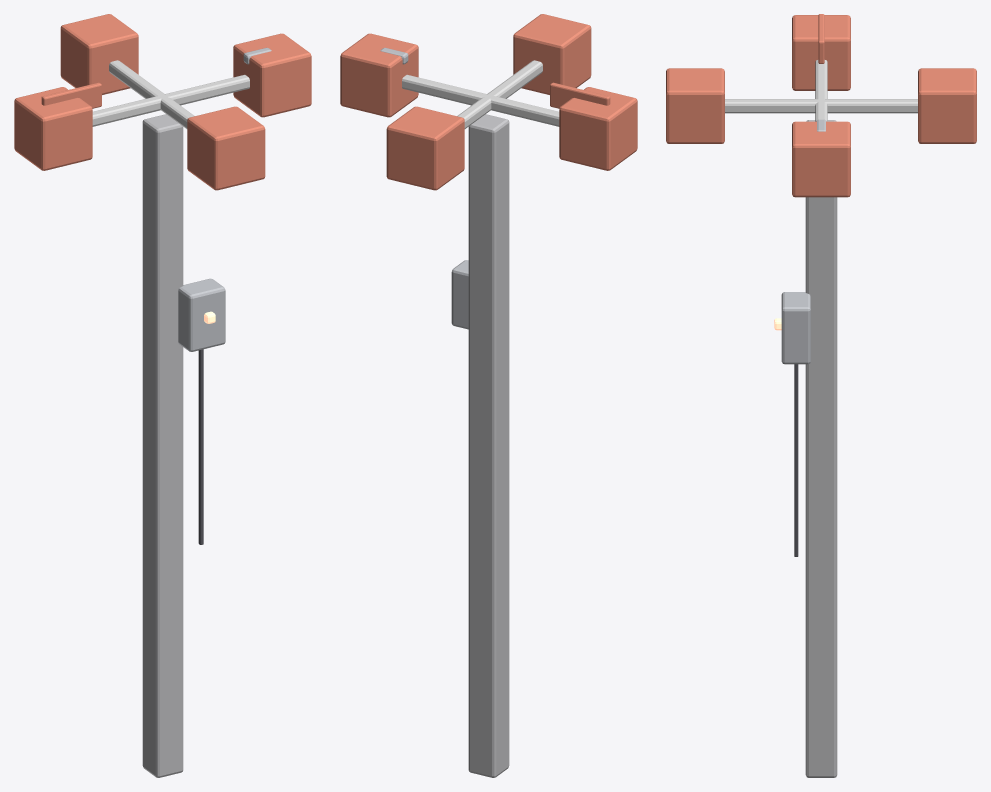
File: анемометр.glb
3 views of the same model, side by side, from view 1: azimuth 30°, elevation 25°; view 2: azimuth 150°, elevation 25°; view 3: azimuth 270°, elevation 25° (orthographic).
Parts seen in each view (by area): view 1: анемометр, Rotor_Mesh; view 2: анемометр, Rotor_Mesh; view 3: анемометр, Rotor_Mesh.
Part boxes in pixels (x1,y1,x2,y2): анемометр: (142,114,225,777); Rotor_Mesh: (14,14,311,190); анемометр: (451,114,509,777); Rotor_Mesh: (340,14,637,190); анемометр: (774,120,837,777); Rotor_Mesh: (666,14,976,197).
Bounding box in the file's own units: 1.48 × 3.68 × 1.48.
